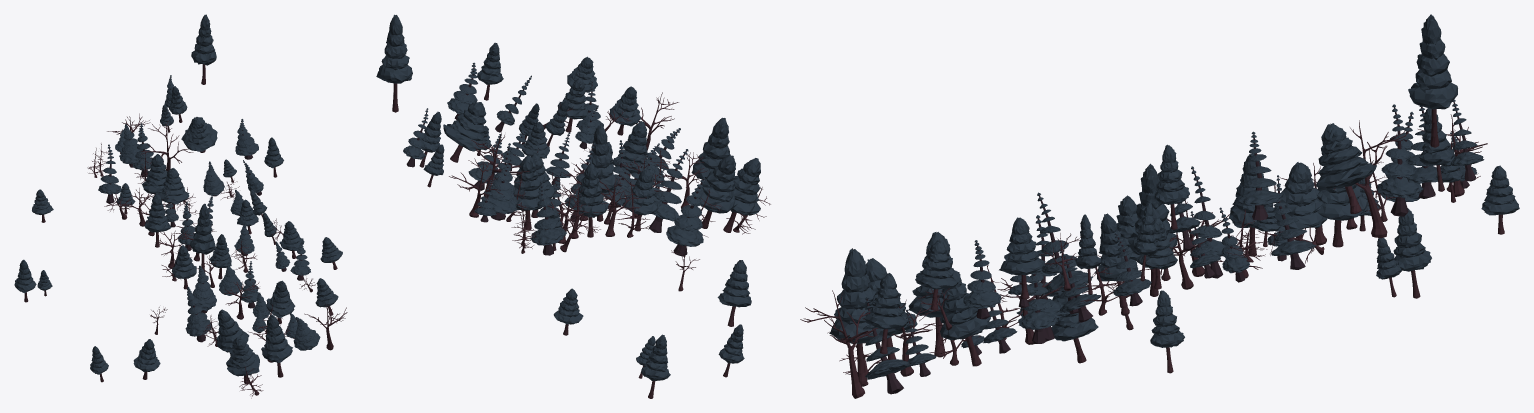
Rendered from forest2.glb.
The picture shows the model from 3 angles, left to right: view 1: azimuth 30°, elevation 25°; view 2: azimuth 150°, elevation 25°; view 3: azimuth 270°, elevation 25°; orthographic projection. The views are drawn at different scales.
Visible parts, largest first — view 1: tree4.005, tree4.007, tree4.017, tree4.018, tree4.002, tree2.024, tree4.006, tree4.010, tree4, tree4.009, tree4.001, tree2.021 (+26 smaller); view 2: tree4.006, tree4.018, tree4.017, tree2.024, tree4.007, tree4.001, tree4, tree4.005, tree2.021, tree2.023, tree4.002, tree4.011 (+34 smaller); view 3: tree4.018, tree4.005, tree4.017, tree4.009, tree4.010, tree2.015, tree4.016, tree4.019, tree2.021, tree4.028, tree4.002, tree2.030 (+33 smaller).
Part boxes in pixels (x1=…): tree4.005: x1=261, y1=314, x2=292, y2=377; tree4.007: x1=226, y1=337, x2=259, y2=383; tree4.017: x1=181, y1=117, x2=217, y2=152; tree4.018: x1=191, y1=14, x2=216, y2=84; tree4.002: x1=190, y1=203, x2=215, y2=272; tree2.024: x1=185, y1=286, x2=211, y2=342; tree4.006: x1=216, y1=309, x2=249, y2=352; tree4.010: x1=266, y1=280, x2=295, y2=324; tree4: x1=144, y1=193, x2=171, y2=247; tree4.009: x1=159, y1=168, x2=189, y2=213; tree4.001: x1=142, y1=154, x2=167, y2=194; tree2.021: x1=191, y1=265, x2=216, y2=313; tree4.006: x1=695, y1=155, x2=737, y2=228; tree4.018: x1=376, y1=14, x2=412, y2=112; tree4.017: x1=443, y1=102, x2=487, y2=162; tree2.024: x1=666, y1=177, x2=705, y2=256; tree4.007: x1=723, y1=158, x2=760, y2=232; tree4.001: x1=513, y1=155, x2=549, y2=229; tree4: x1=572, y1=162, x2=608, y2=237; tree4.005: x1=691, y1=117, x2=730, y2=180; tree2.021: x1=648, y1=149, x2=688, y2=232; tree2.023: x1=530, y1=181, x2=563, y2=255; tree4.002: x1=590, y1=124, x2=617, y2=221; tree4.011: x1=717, y1=260, x2=751, y2=326; tree4.018: x1=1408, y1=14, x2=1457, y2=147; tree4.005: x1=829, y1=248, x2=883, y2=384; tree4.017: x1=1316, y1=123, x2=1376, y2=213; tree4.009: x1=1274, y1=162, x2=1327, y2=240; tree4.010: x1=939, y1=268, x2=990, y2=366; tree2.015: x1=1377, y1=104, x2=1423, y2=215; tree4.016: x1=999, y1=217, x2=1045, y2=299; tree4.019: x1=1393, y1=208, x2=1431, y2=298; tree2.021: x1=1037, y1=192, x2=1092, y2=314; tree4.028: x1=864, y1=273, x2=908, y2=354; tree4.002: x1=1127, y1=163, x2=1177, y2=296; tree2.030: x1=1236, y1=131, x2=1281, y2=220.
Size of the model in its own units: 67.35 by 86.03 by 108.
Materials: 1 (1 with a texture image).
